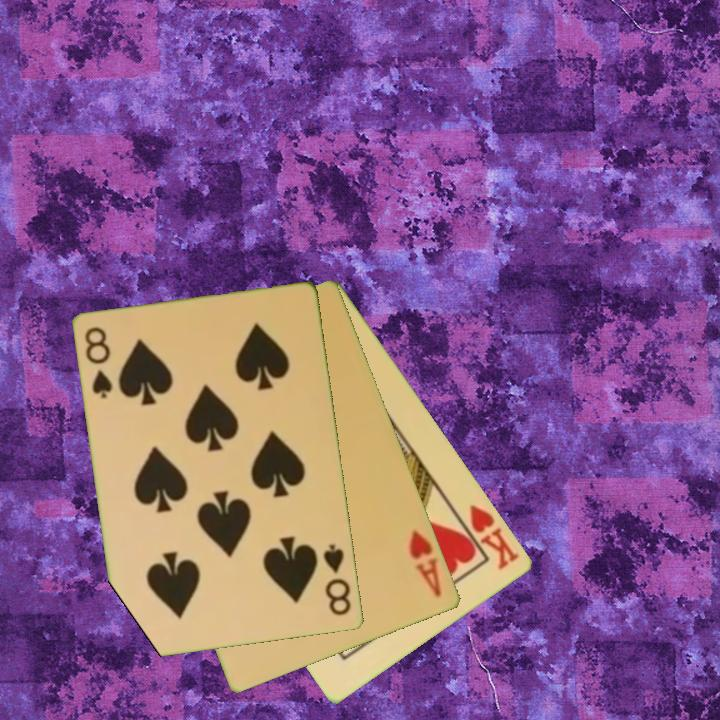8s: (81, 324, 116, 402), (320, 540, 354, 619)
Ah: (406, 526, 445, 600)
Kh: (453, 501, 523, 573)
